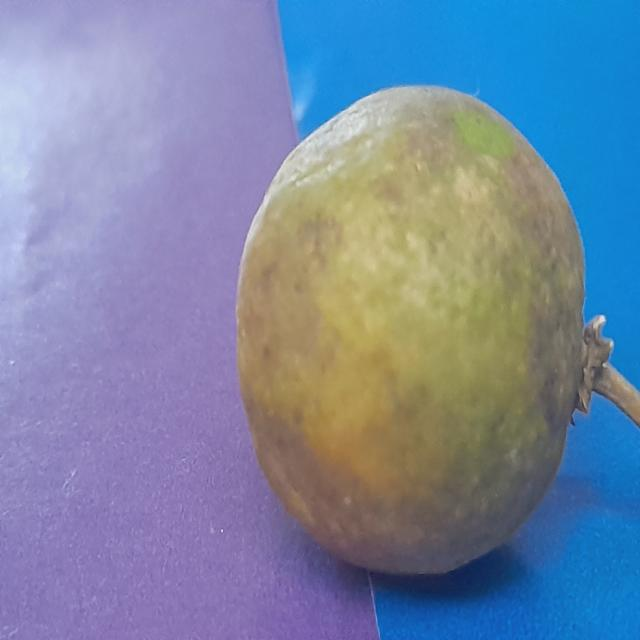thrips: (231, 81, 594, 576)
